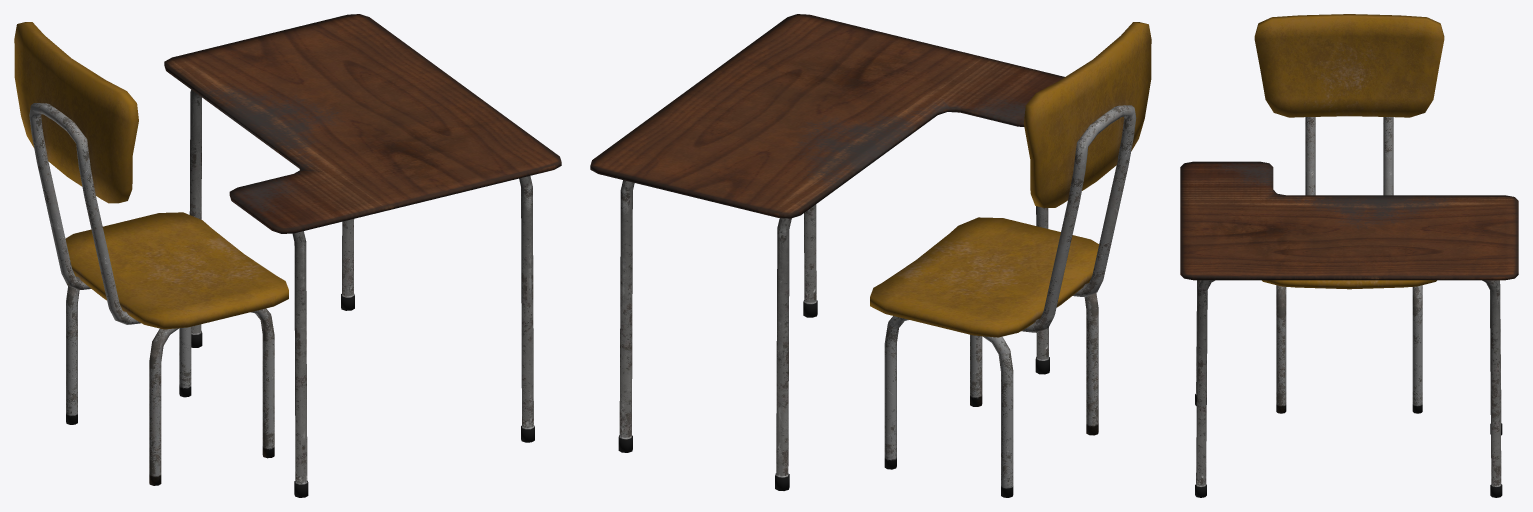
File: student_desk.obj
The picture shows the model from 3 angles, left to right: view 1: azimuth 30°, elevation 25°; view 2: azimuth 150°, elevation 25°; view 3: azimuth 270°, elevation 25°; orthographic projection. The views are drawn at different scales.
Parts seen in each view (by area): view 1: desk_low, chair_low; view 2: desk_low, chair_low; view 3: desk_low, chair_low.
Boxes of the visible parts, <box> form: desk_low: <box>164,14,561,497</box>; chair_low: <box>14,22,288,485</box>; desk_low: <box>590,14,1064,490</box>; chair_low: <box>870,22,1151,497</box>; desk_low: <box>1180,161,1518,497</box>; chair_low: <box>1254,14,1444,413</box>.
Size of the model in its own units: 0.02 by 0.0188 by 0.0174.
Materials: 1 (1 with a texture image).
